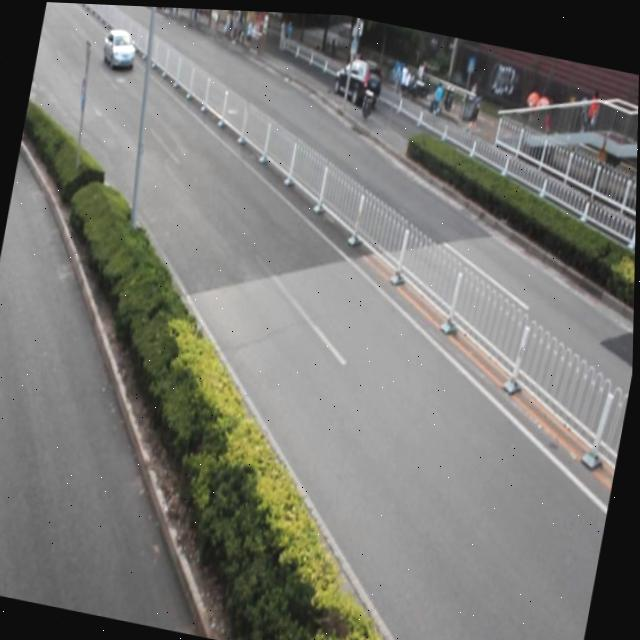car: (330, 51, 385, 108), (100, 27, 139, 74)
